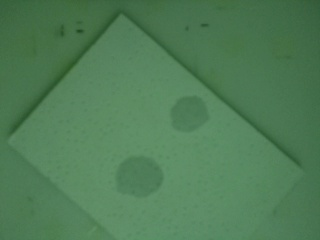Water_detected: (127, 156, 166, 192), (175, 97, 199, 124)
